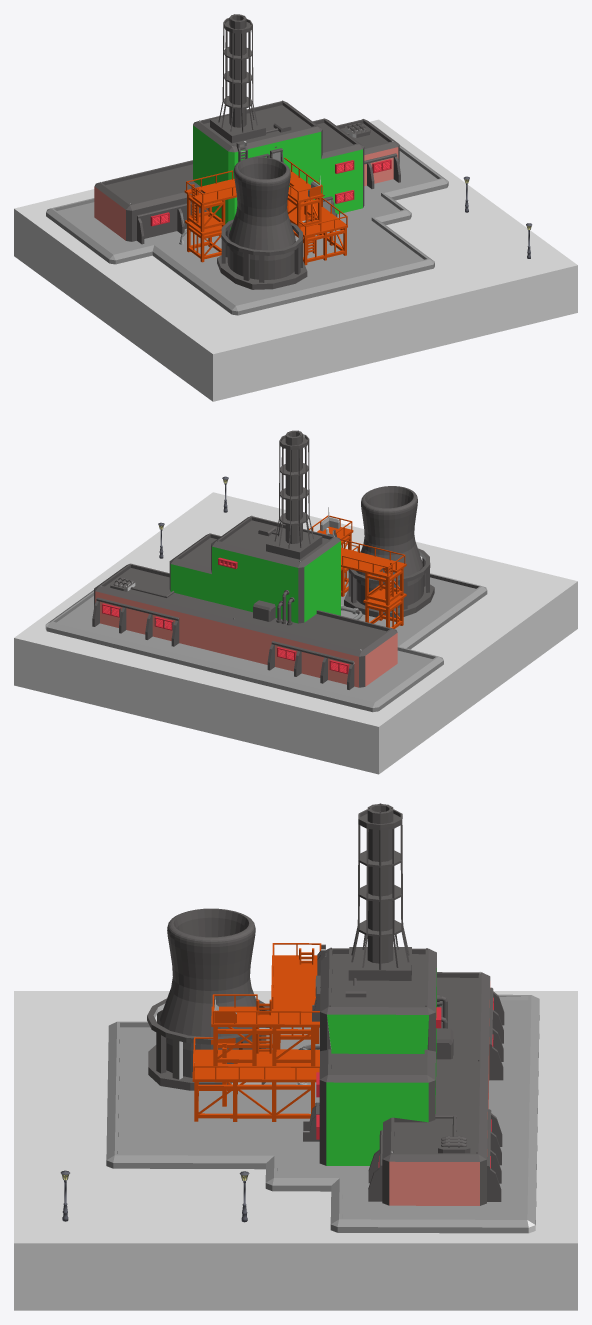
Rendered from pabrik.fbx.
The picture shows the model from 3 angles, top to bottom: view 1: azimuth 30°, elevation 25°; view 2: azimuth 150°, elevation 25°; view 3: azimuth 270°, elevation 25°; orthographic projection. The views are drawn at different scales.
Visible parts, largest first — view 1: Plane.001, Cube.038_Cube.103; view 2: Cube.038_Cube.103, Plane.001; view 3: Cube.038_Cube.103, Plane.001.
Part boxes in pixels (box(x1,y1,x2,y2)): Plane.001: box(14, 119, 577, 401); Cube.038_Cube.103: box(46, 14, 448, 315); Cube.038_Cube.103: box(45, 430, 487, 712); Plane.001: box(14, 492, 577, 774); Cube.038_Cube.103: box(106, 803, 539, 1233); Plane.001: box(14, 991, 577, 1310).
Bounding box in the file's own units: 1044 × 689 × 986.
